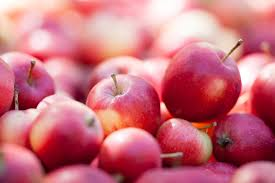apple: (166, 44, 242, 118), (33, 102, 104, 165), (91, 74, 161, 132), (210, 112, 274, 160), (102, 127, 162, 169), (159, 117, 215, 162), (3, 54, 56, 100)
